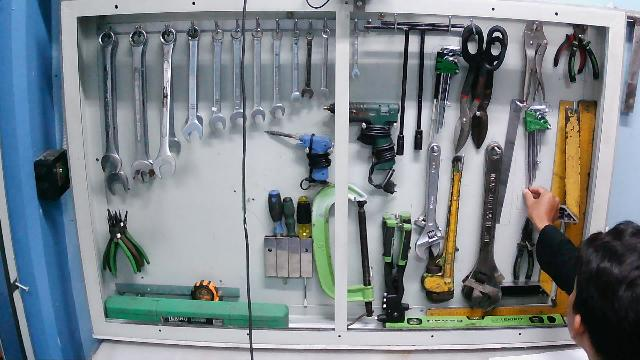kunci_l_bintang: (523, 104, 552, 193)
